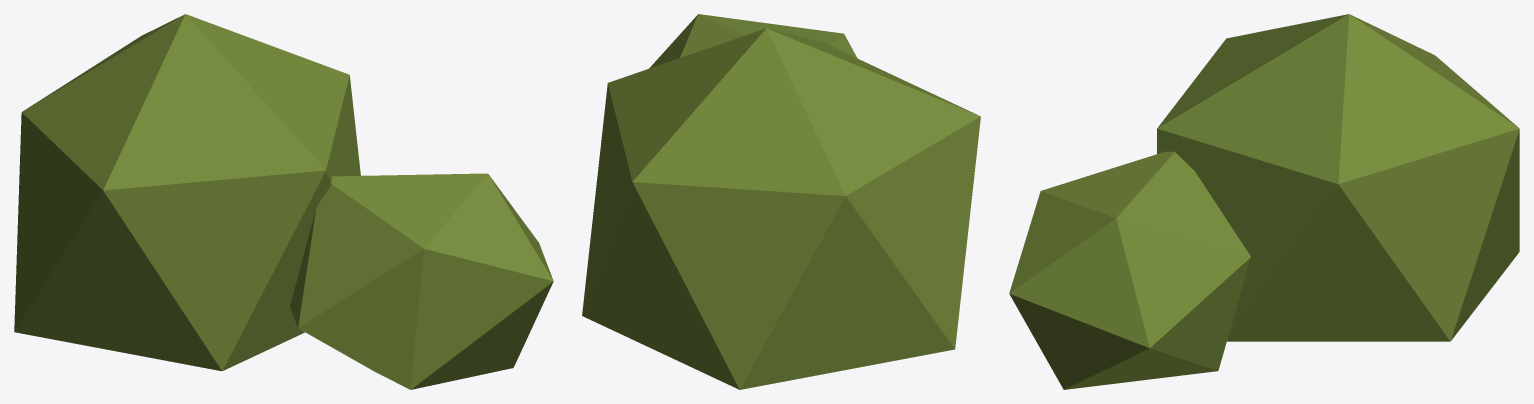
File: Bush02.glb
The picture shows the model from 3 angles, left to right: view 1: azimuth 30°, elevation 25°; view 2: azimuth 150°, elevation 25°; view 3: azimuth 270°, elevation 25°; orthographic projection. The views are drawn at different scales.
Parts seen in each view (by area): view 1: Bush02; view 2: Bush02; view 3: Bush02.
Boxes of the visible parts, x1,y1,x2,y2 form: Bush02: (14, 14, 553, 389); Bush02: (582, 14, 980, 389); Bush02: (1009, 14, 1519, 389).
Size of the model in its own units: 2.29 by 1.49 by 2.39.
